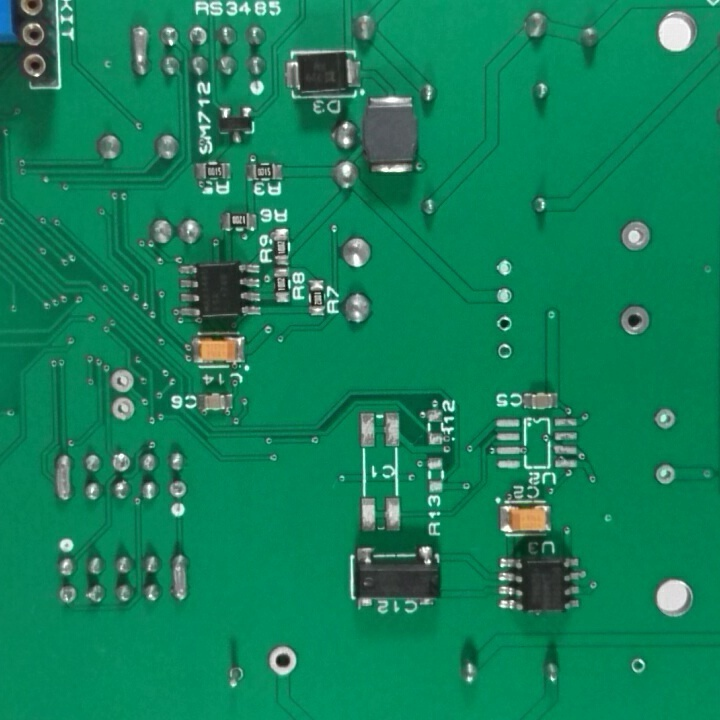F: (619, 218, 654, 254), (619, 301, 650, 340), (264, 646, 300, 679), (650, 460, 680, 489), (107, 397, 139, 423), (221, 660, 247, 692), (107, 369, 137, 394), (652, 405, 682, 430), (109, 451, 136, 476), (186, 25, 209, 51), (56, 583, 80, 607), (492, 256, 516, 280), (167, 478, 190, 501), (493, 315, 516, 335), (496, 287, 516, 308), (628, 657, 648, 677), (497, 341, 514, 361)
P: (124, 23, 156, 82), (167, 552, 194, 610), (52, 448, 76, 505)
